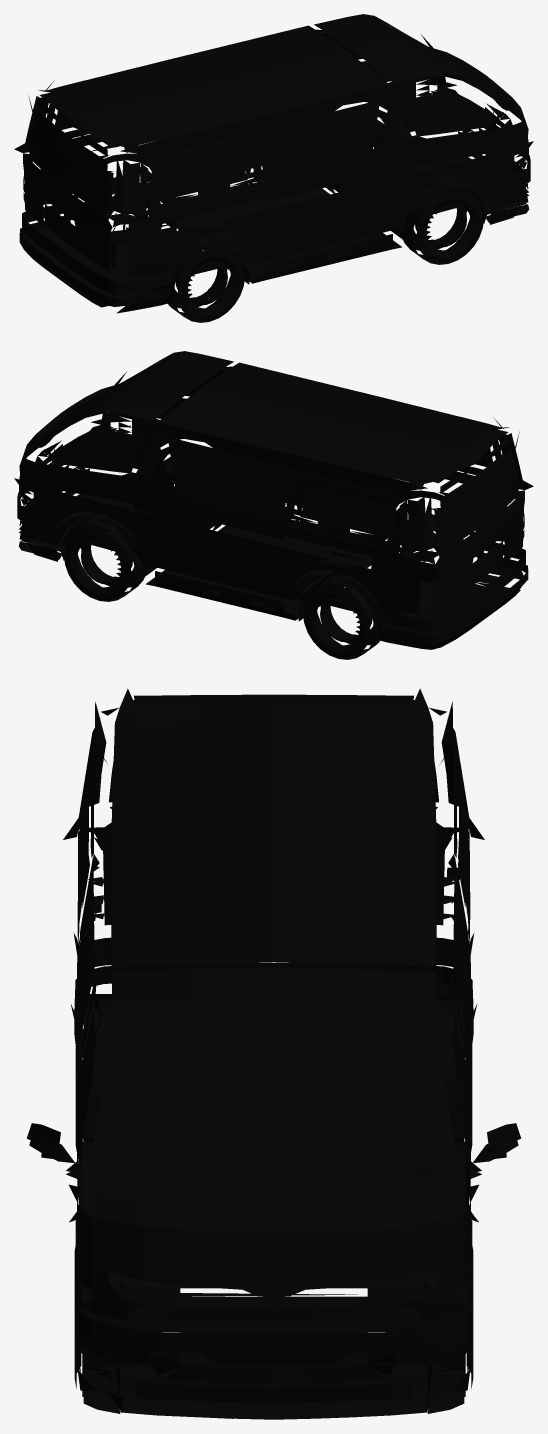
Rendered from v_policevan_lod1.glb.
The picture shows the model from 3 angles, top to bottom: view 1: azimuth 30°, elevation 25°; view 2: azimuth 150°, elevation 25°; view 3: azimuth 270°, elevation 25°; orthographic projection. The views are drawn at different scales.
Visible parts, largest first — view 1: v_policevan_lod1; view 2: v_policevan_lod1; view 3: v_policevan_lod1.
Part boxes in pixels (x1,y1,x2,y2): v_policevan_lod1: (14,14,533,322); v_policevan_lod1: (14,351,533,659); v_policevan_lod1: (26,688,521,1419).
Bounding box in the file's own units: 5.38 × 2.22 × 2.6.
1 material, 1 textured.
